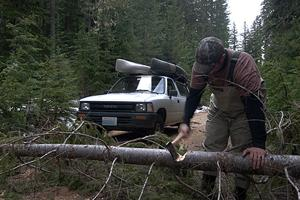person: (178, 38, 269, 200)
